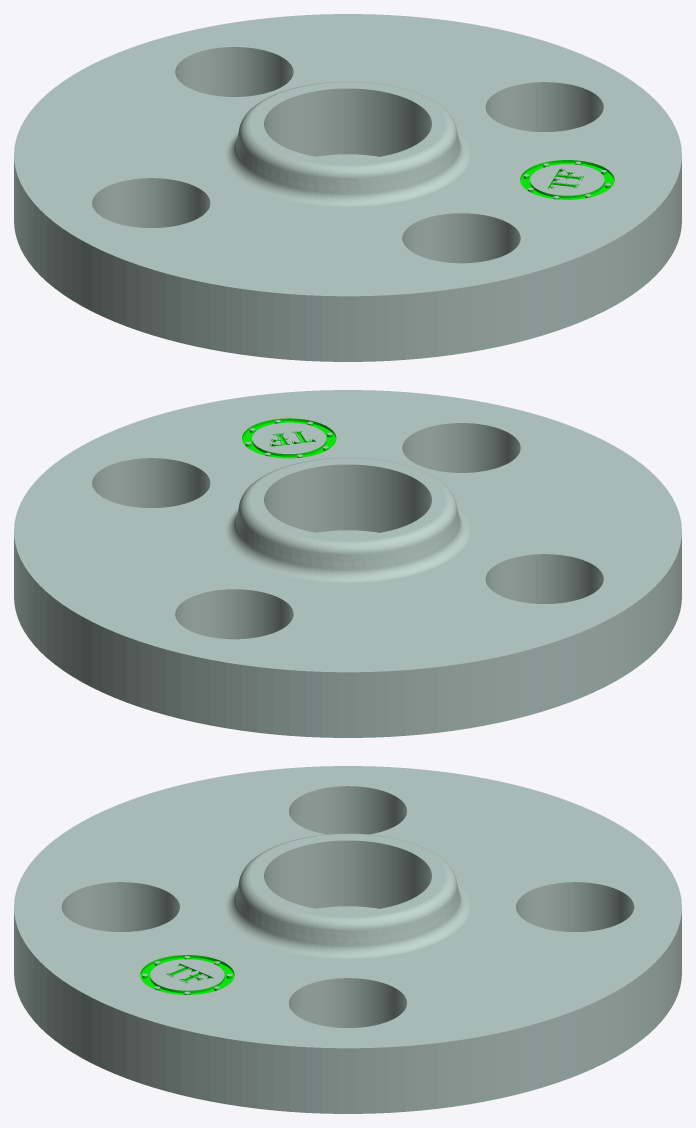
Rendered from 0.5-150-SOCKET-WELD-RF-40-FLANGE.glb.
3 renders of one model, top to bottom at view 1: azimuth 30°, elevation 25°; view 2: azimuth 150°, elevation 25°; view 3: azimuth 270°, elevation 25°, orthographic.
Visible parts, largest first — view 1: Node2, Node1; view 2: Node2, Node1; view 3: Node2, Node1.
Part boxes in pixels (left/top/right/bottom): Node2: left=14, top=14, right=681, bottom=361; Node1: left=520, top=160, right=614, bottom=199; Node2: left=14, top=390, right=681, bottom=737; Node1: left=242, top=418, right=336, bottom=458; Node2: left=14, top=766, right=681, bottom=1113; Node1: left=140, top=955, right=234, bottom=994.
Bounding box in the file's own units: 88.88 × 15.81 × 88.9.
